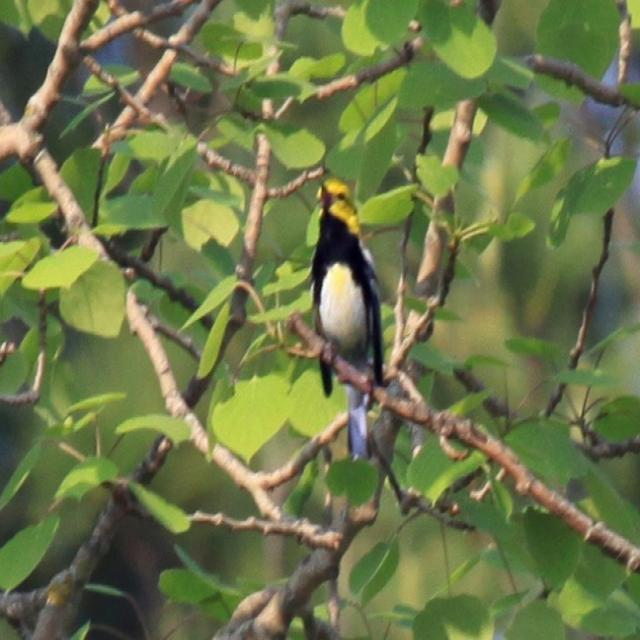bird: (308, 177, 382, 411)
